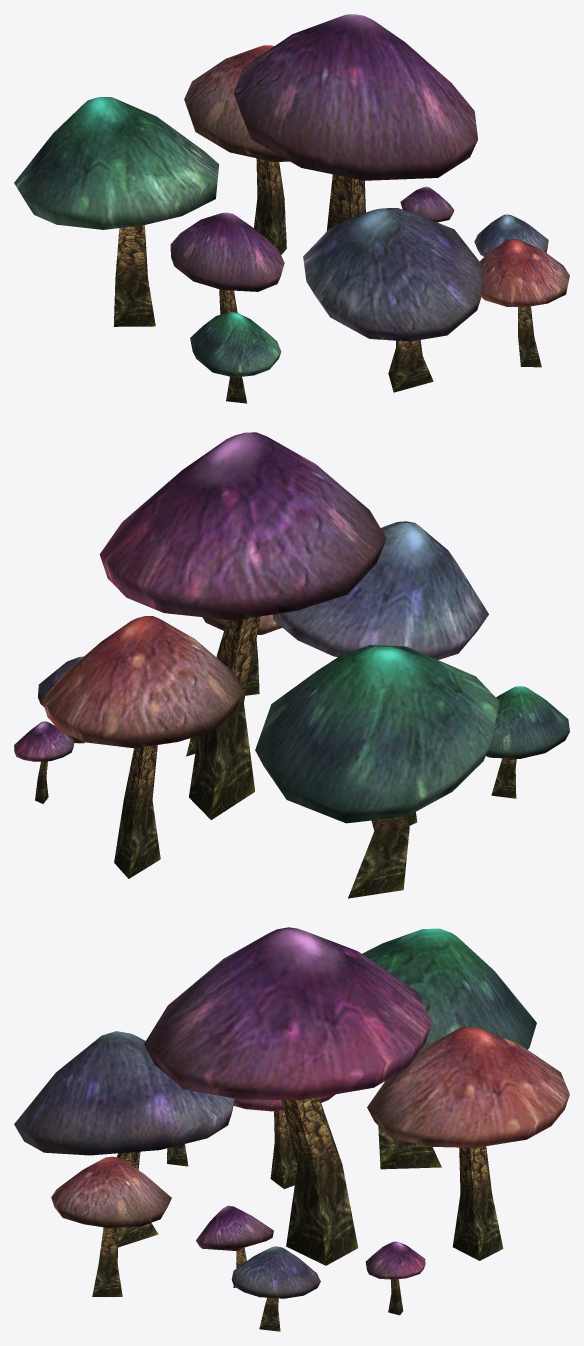
File: mogu_08.FBX
3 renders of one model, top to bottom at view 1: azimuth 30°, elevation 25°; view 2: azimuth 150°, elevation 25°; view 3: azimuth 270°, elevation 25°, orthographic. The views are drawn at different scales.
Visible parts, largest first — view 1: mogu_08_04, mogu_08_02, mogu_08_01, mogu_08_06, mogu_08_03; view 2: mogu_08_04, mogu_08_02, mogu_08_03, mogu_08_06, mogu_08_01; view 3: mogu_08_04, mogu_08_03, mogu_08_01, mogu_08_06, mogu_08_02.
Boxes of the visible parts, left/top/right/bottom form: mogu_08_04: left=170, top=14, right=477, bottom=291; mogu_08_02: left=14, top=97, right=281, bottom=377; mogu_08_01: left=303, top=208, right=548, bottom=341; mogu_08_06: left=113, top=158, right=541, bottom=403; mogu_08_03: left=184, top=45, right=569, bottom=306; mogu_08_04: left=14, top=432, right=386, bottom=761; mogu_08_02: left=255, top=645, right=569, bottom=823; mogu_08_03: left=42, top=614, right=282, bottom=748; mogu_08_06: left=35, top=616, right=516, bottom=898; mogu_08_01: left=38, top=521, right=488, bottom=706; mogu_08_04: left=144, top=927, right=432, bottom=1279; mogu_08_03: left=51, top=1026, right=569, bottom=1227; mogu_08_01: left=14, top=1031, right=320, bottom=1298; mogu_08_06: left=92, top=1097, right=503, bottom=1331; mogu_08_02: left=362, top=928, right=536, bottom=1051.
Size of the model in its own units: 1.88 by 1.25 by 1.97.
